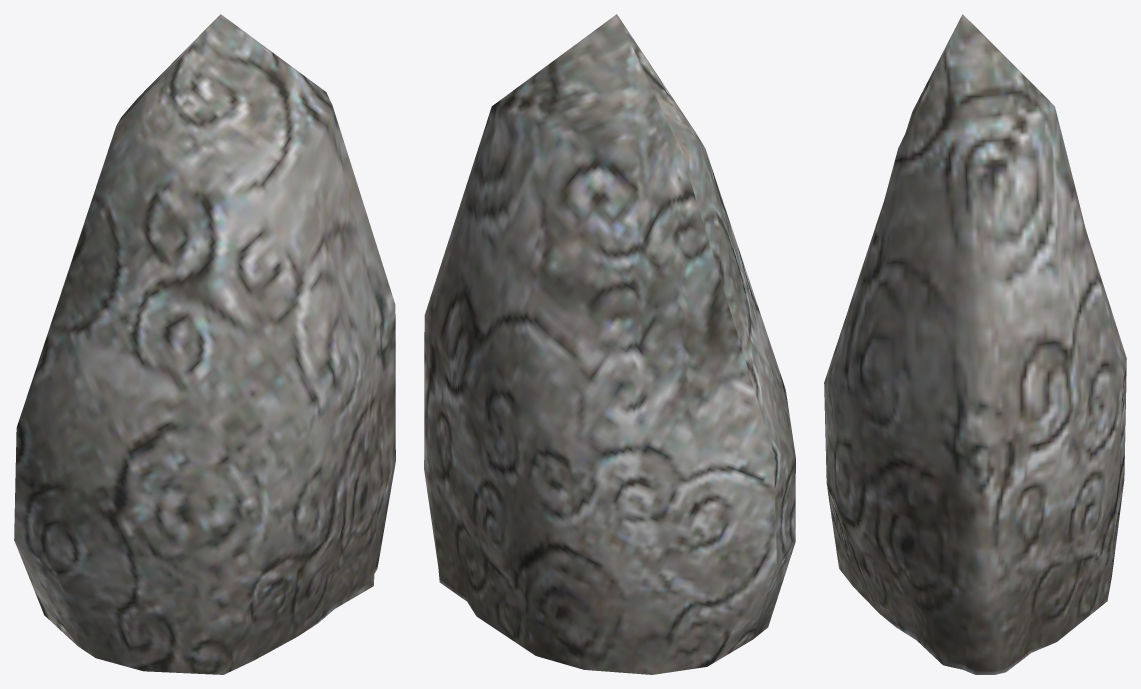
The model's file is menhir_a.glb.
3 renders of one model, left to right at view 1: azimuth 30°, elevation 25°; view 2: azimuth 150°, elevation 25°; view 3: azimuth 270°, elevation 25°, orthographic. The views are drawn at different scales.
Visible parts, largest first — view 1: Modelo; view 2: Modelo; view 3: Modelo.
Boxes of the visible parts, x1,y1,x2,y2 form: Modelo: (14, 14, 395, 674); Modelo: (424, 14, 795, 674); Modelo: (824, 14, 1126, 674).
Size of the model in its own units: 1.02 by 1.59 by 0.7497.
1 material, 1 textured.
